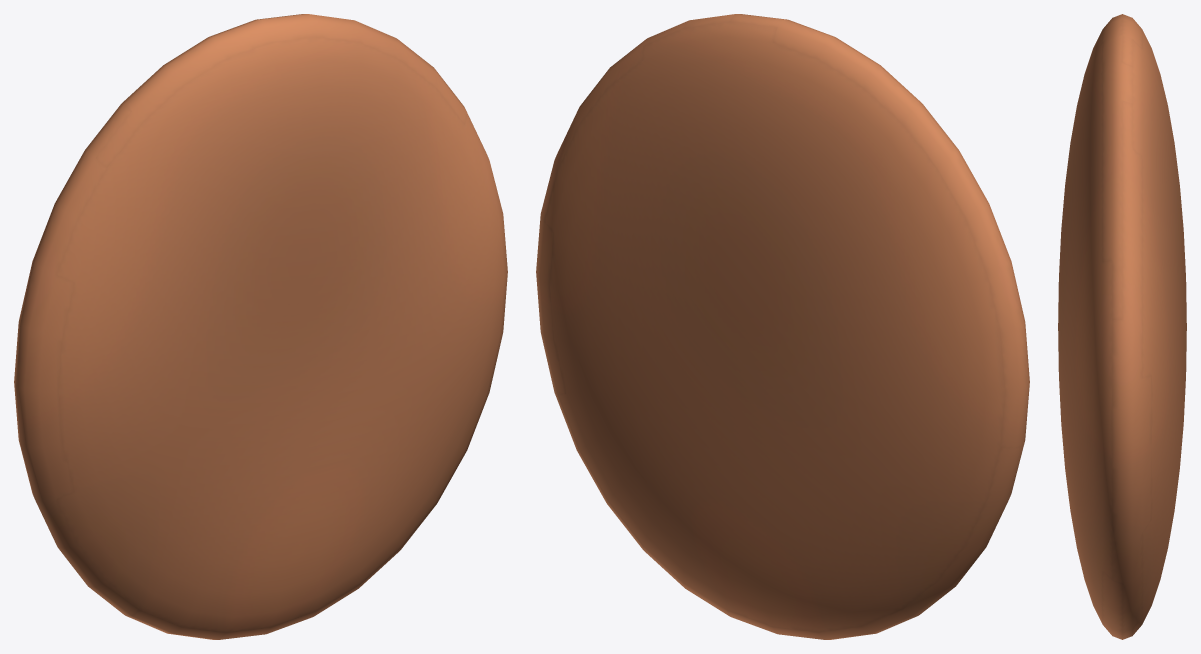
Rendered from item_scale.glb.
The picture shows the model from 3 angles, left to right: view 1: azimuth 30°, elevation 25°; view 2: azimuth 150°, elevation 25°; view 3: azimuth 270°, elevation 25°; orthographic projection. The views are drawn at different scales.
Visible parts, largest first — view 1: scale; view 2: scale; view 3: scale.
Boxes of the visible parts, left/top/right/bottom form: scale: left=14, top=14, right=507, bottom=639; scale: left=536, top=14, right=1029, bottom=639; scale: left=1058, top=14, right=1186, bottom=639.
Size of the model in its own units: 0.5 by 0.6 by 0.12.
1 material, 1 textured.
